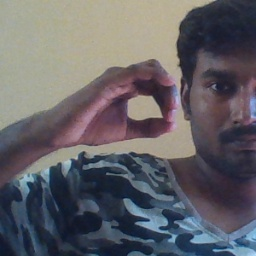O: (55, 55, 179, 151)
